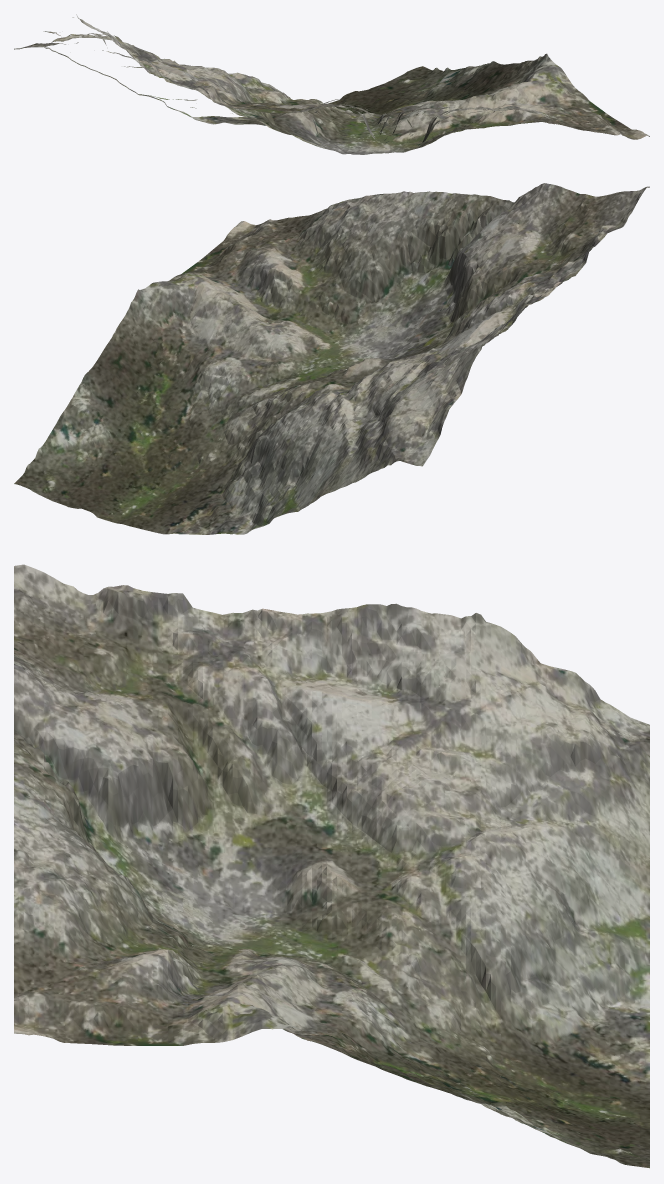
3 views of the same model, one above another, from view 1: azimuth 30°, elevation 25°; view 2: azimuth 150°, elevation 25°; view 3: azimuth 270°, elevation 25° (orthographic). The views are drawn at different scales.
Bounding box in the file's own units: 500 × 289 × 481.
1 material, 1 textured.
